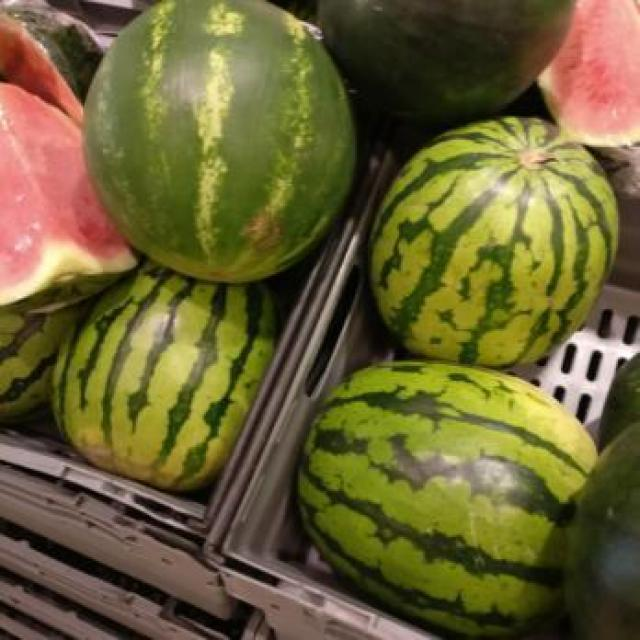Watermelon: (282, 355, 610, 636), (73, 0, 356, 294), (368, 116, 614, 375), (24, 263, 290, 493), (312, 0, 588, 131)
